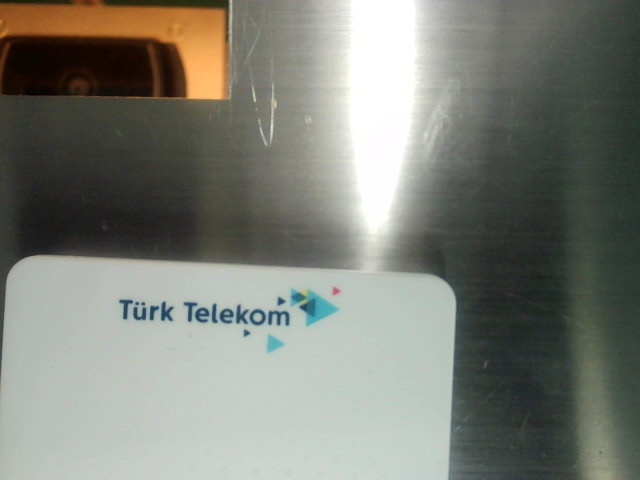AQ_TURKTelekom: (112, 270, 361, 359)
